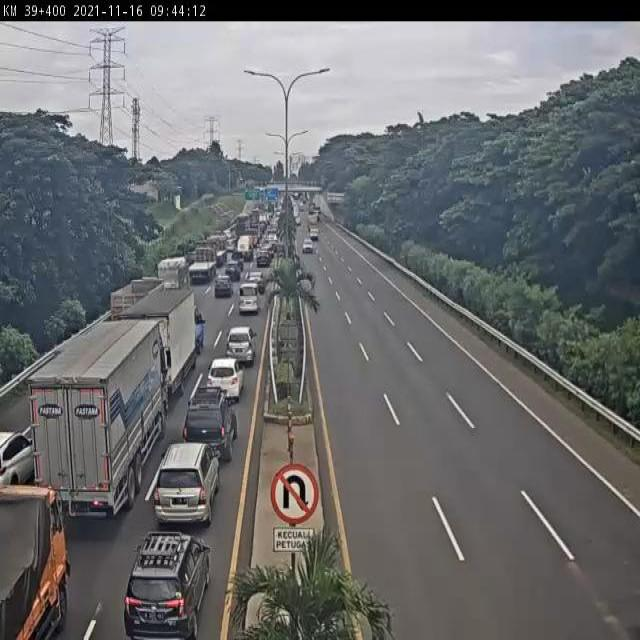car: (112, 528, 228, 640), (152, 443, 219, 517), (187, 382, 238, 449), (1, 428, 40, 485), (209, 352, 250, 401), (225, 320, 263, 360), (239, 284, 277, 323), (216, 274, 233, 298), (307, 225, 321, 243), (302, 239, 316, 257)
truck-l-: (36, 317, 162, 500)
truck-m-: (0, 485, 61, 640), (119, 288, 201, 385), (107, 274, 162, 330), (157, 256, 188, 288)
